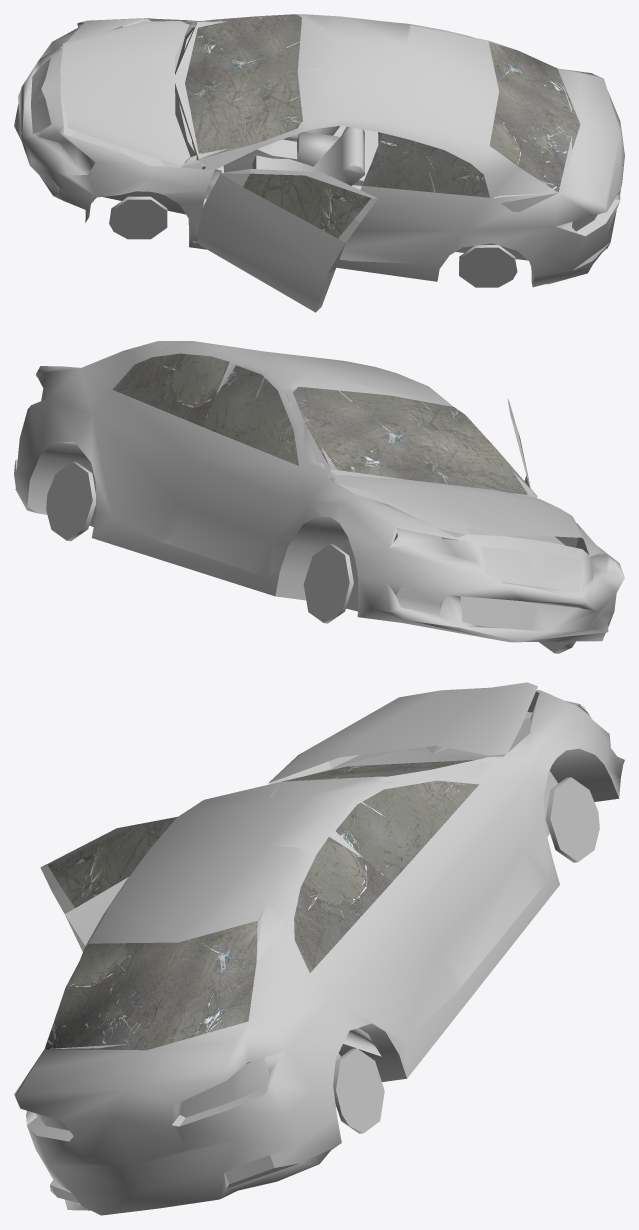
Rendered from Car_lod1.fbx.
The picture shows the model from 3 angles, top to bottom: view 1: azimuth 30°, elevation 25°; view 2: azimuth 150°, elevation 25°; view 3: azimuth 270°, elevation 25°; orthographic projection. The views are drawn at different scales.
Parts seen in each view (by area): view 1: Car_lod1; view 2: Car_lod1; view 3: Car_lod1.
Boxes of the visible parts, x1,y1,x2,y2 form: Car_lod1: (14,14,624,312); Car_lod1: (14,341,624,653); Car_lod1: (14,682,624,1215).
Size of the model in its own units: 558 by 413 by 239.
